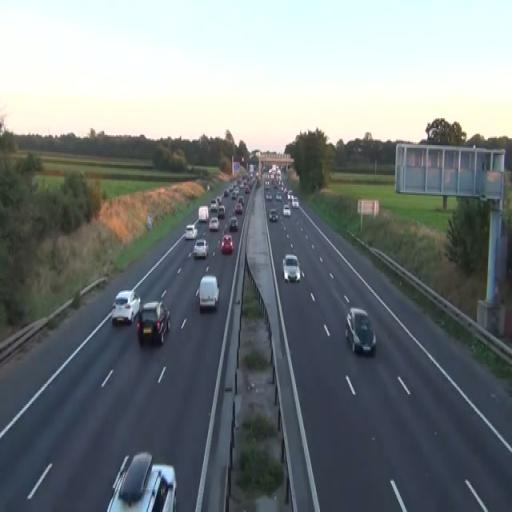Car: (106, 452, 178, 511), (137, 300, 171, 347), (346, 307, 376, 356), (112, 288, 141, 326), (197, 275, 220, 312), (282, 254, 300, 284), (193, 237, 209, 259), (221, 234, 234, 254), (185, 223, 198, 241), (208, 216, 220, 232), (229, 216, 238, 232), (269, 208, 278, 222), (283, 206, 291, 218)
